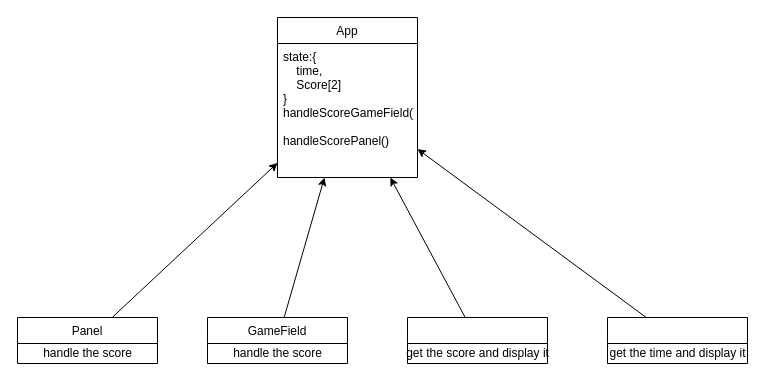
This 765x381 diagram has some shape labels left out. The box of each missing label's shape, as (x1, y1, x2, y2) in pixels:
ScoreBoard: (406, 316, 548, 364)
Timer: (606, 316, 748, 364)
